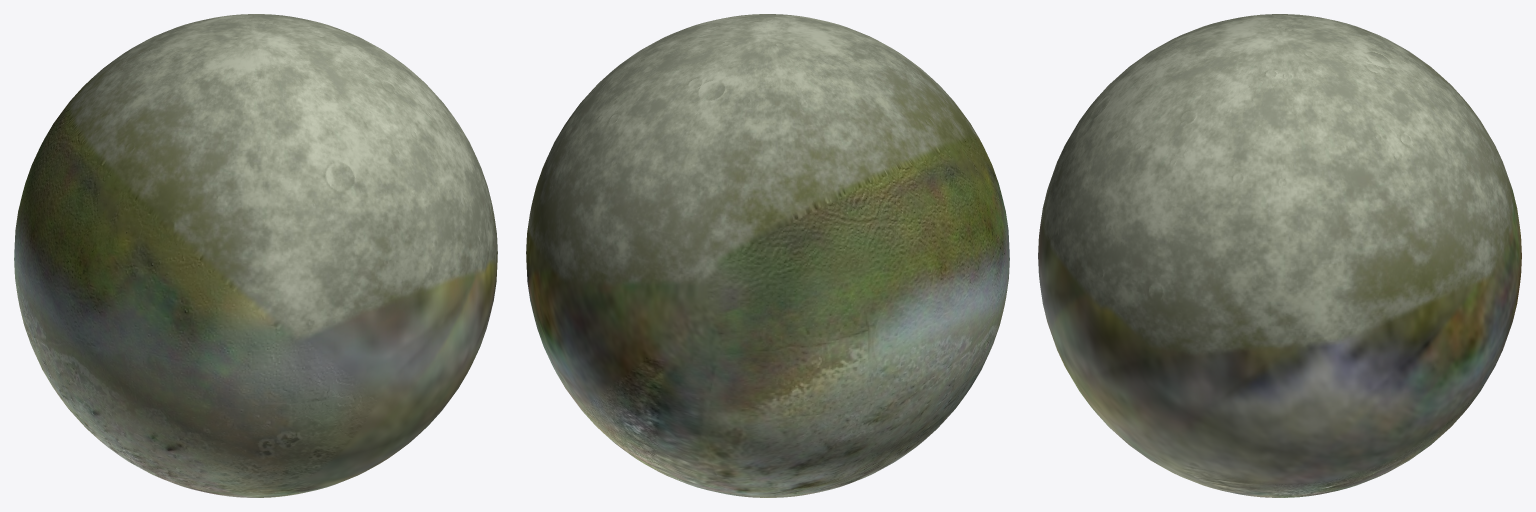
File: ball-triton.glb
3 views of the same model, side by side, from view 1: azimuth 30°, elevation 25°; view 2: azimuth 150°, elevation 25°; view 3: azimuth 270°, elevation 25° (orthographic).
Parts seen in each view (by area): view 1: voyager2; view 2: voyager2; view 3: voyager2.
Part boxes in pixels (x1,y1,x2,y2): voyager2: (14,14,497,497); voyager2: (526,14,1009,497); voyager2: (1038,14,1521,497).
Size of the model in its own units: 2 by 2 by 2.
Materials: 1 (1 with a texture image).
